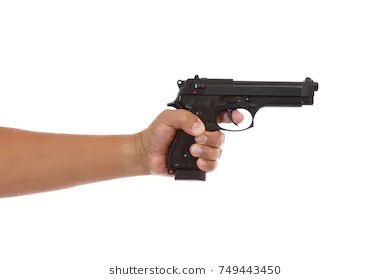pistol: (141, 55, 329, 207)
